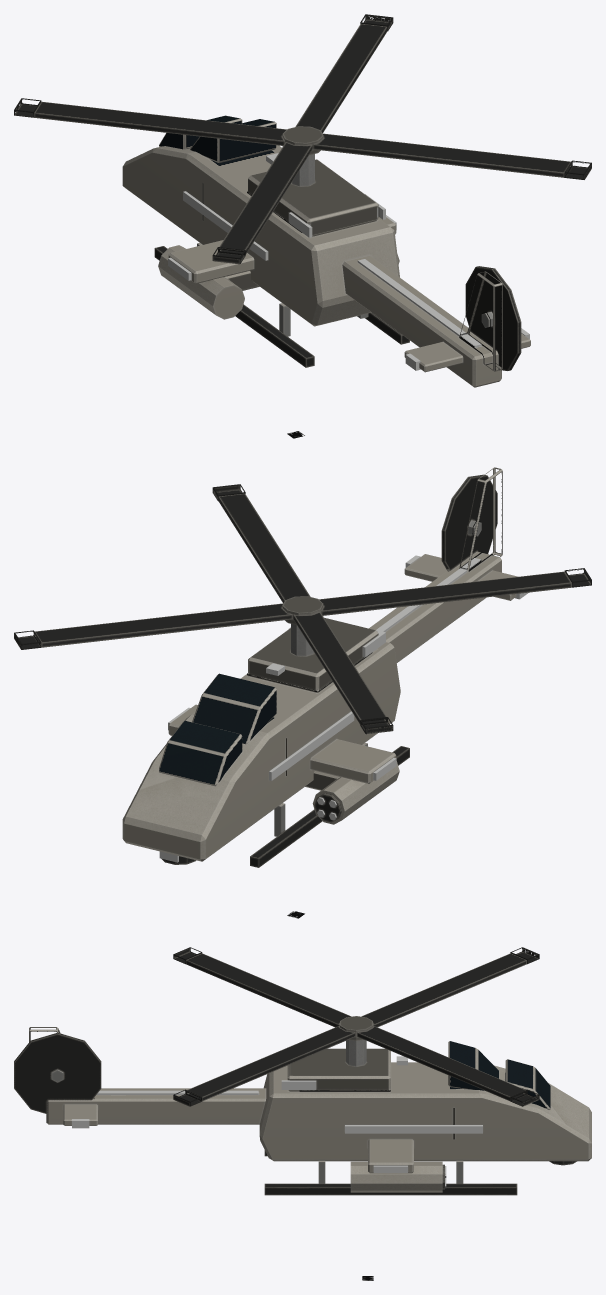
File: ord_guardian.fbx
The picture shows the model from 3 angles, top to bottom: view 1: azimuth 30°, elevation 25°; view 2: azimuth 150°, elevation 25°; view 3: azimuth 270°, elevation 25°; orthographic projection. The views are drawn at different scales.
Parts seen in each view (by area): view 1: base_bar, rotor_bar, base_glow_running_bar, pylon_bar; view 2: base_bar, rotor_bar, base_glow_running_bar, pylon_bar; view 3: base_bar, rotor_bar, base_glow_running_bar, pylon_bar.
Part boxes in pixels (x1,y1,x2,y2): base_bar: (122,115,530,387); rotor_bar: (14,14,591,264); base_glow_running_bar: (168,153,529,370); pylon_bar: (158,245,399,319); base_bar: (122,467,517,867); rotor_bar: (14,484,591,734); base_glow_running_bar: (168,555,528,780); pylon_bar: (305,761,399,824); base_bar: (14,1027,591,1195); rotor_bar: (173,947,539,1106); base_glow_running_bar: (72,1056,482,1172); pylon_bar: (350,1161,444,1192).
Size of the model in its own units: 638 by 490 by 1006.
2 materials, 2 textured.
